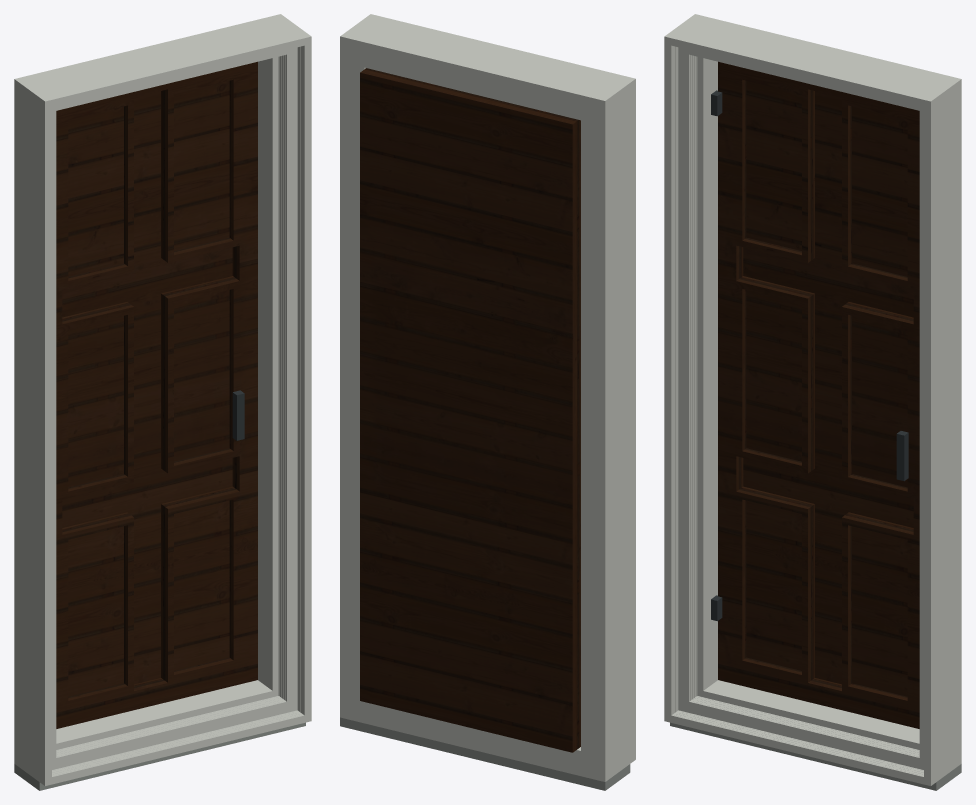
The model's file is clasico_rectangle_puerta.glb.
The picture shows the model from 3 angles, left to right: view 1: azimuth 30°, elevation 25°; view 2: azimuth 150°, elevation 25°; view 3: azimuth 330°, elevation 25°; orthographic projection.
Visible parts, largest first — view 1: door_panel_back#0001, door_moulding#0020, door_leaf_frame#0001, door_reveal#0001, door_coffer#0005, door_coffer#0004, door_coffer#0006, door_coffer#0002, door_coffer#0001, door_coffer#0003, door_moulding#0009, door_moulding#0001 (+25 smaller); view 2: door_panel_back#0001, door_reveal#0001, door_leaf_frame#0001, door_moulding#0020, door_threshold#0001; view 3: door_panel_back#0001, door_moulding#0020, door_reveal#0001, door_leaf_frame#0001, door_coffer#0002, door_coffer#0001, door_coffer#0003, door_coffer#0004, door_coffer#0006, door_coffer#0005, door_moulding#0009, door_moulding#0001 (+25 smaller).
Boxes of the visible parts, x1=… form: door_panel_back#0001: x1=62, y1=91, x2=232, y2=684; door_moulding#0020: x1=25, y1=24, x2=311, y2=785; door_leaf_frame#0001: x1=56, y1=61, x2=257, y2=728; door_reveal#0001: x1=14, y1=14, x2=293, y2=771; door_coffer#0005: x1=161, y1=276, x2=234, y2=470; door_coffer#0004: x1=161, y1=486, x2=234, y2=679; door_coffer#0006: x1=161, y1=80, x2=229, y2=259; door_coffer#0002: x1=62, y1=302, x2=129, y2=487; door_coffer#0001: x1=62, y1=512, x2=129, y2=696; door_coffer#0003: x1=68, y1=106, x2=123, y2=276; door_moulding#0009: x1=53, y1=51, x2=289, y2=761; door_moulding#0001: x1=56, y1=58, x2=274, y2=745; door_panel_back#0001: x1=378, y1=96, x2=554, y2=729; door_reveal#0001: x1=340, y1=27, x2=618, y2=781; door_leaf_frame#0001: x1=360, y1=68, x2=580, y2=752; door_moulding#0020: x1=353, y1=14, x2=635, y2=773; door_threshold#0001: x1=340, y1=717, x2=630, y2=790; door_panel_back#0001: x1=743, y1=91, x2=913, y2=684; door_moulding#0020: x1=664, y1=24, x2=950, y2=785; door_reveal#0001: x1=682, y1=14, x2=961, y2=771; door_leaf_frame#0001: x1=718, y1=61, x2=919, y2=728; door_coffer#0002: x1=741, y1=276, x2=814, y2=470; door_coffer#0001: x1=741, y1=486, x2=814, y2=679; door_coffer#0003: x1=746, y1=80, x2=814, y2=259; door_coffer#0004: x1=846, y1=512, x2=913, y2=696; door_coffer#0006: x1=852, y1=106, x2=907, y2=276; door_coffer#0005: x1=846, y1=302, x2=913, y2=487; door_moulding#0009: x1=686, y1=51, x2=922, y2=761; door_moulding#0001: x1=701, y1=58, x2=919, y2=745.
Size of the model in its own units: 1.1 by 2.73 by 0.265.
4 materials, 1 textured.
